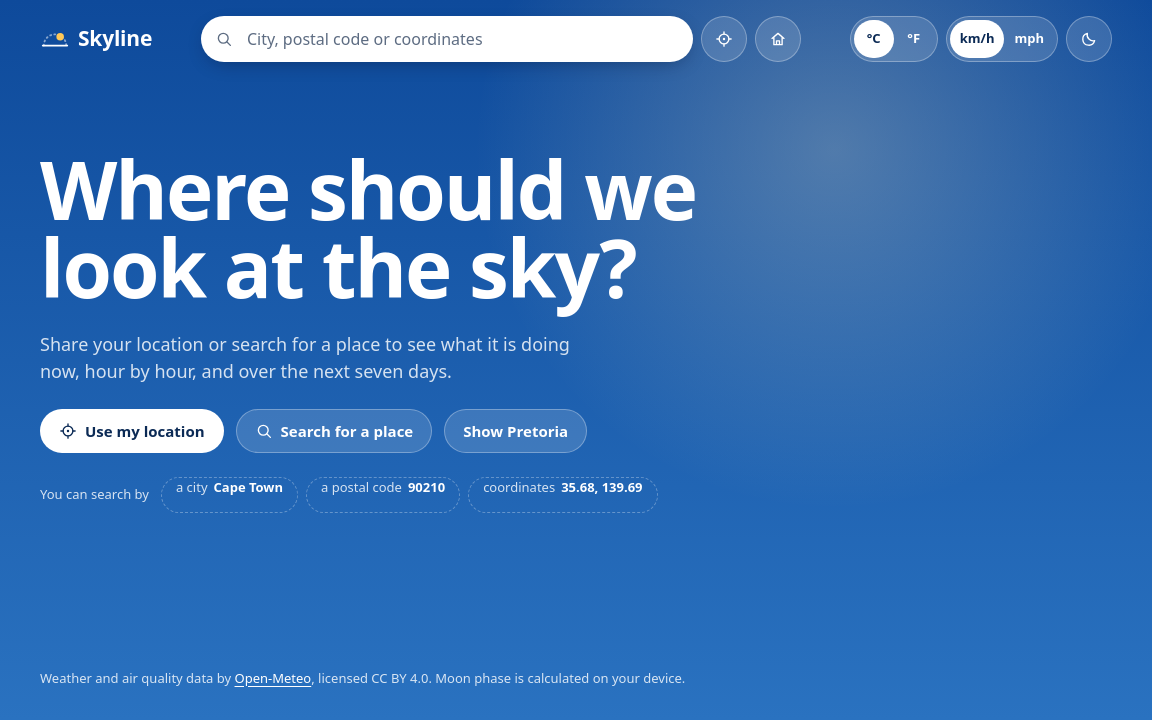
Test case: search › explains an unknown place and keeps the page usable
The width and height of the screenshot is (1152, 720).
Type "zzzxqqqjk" into the dropdown named "Search for a place" at coordinates (470, 39), box [247,16,693,62]
Then press Enter
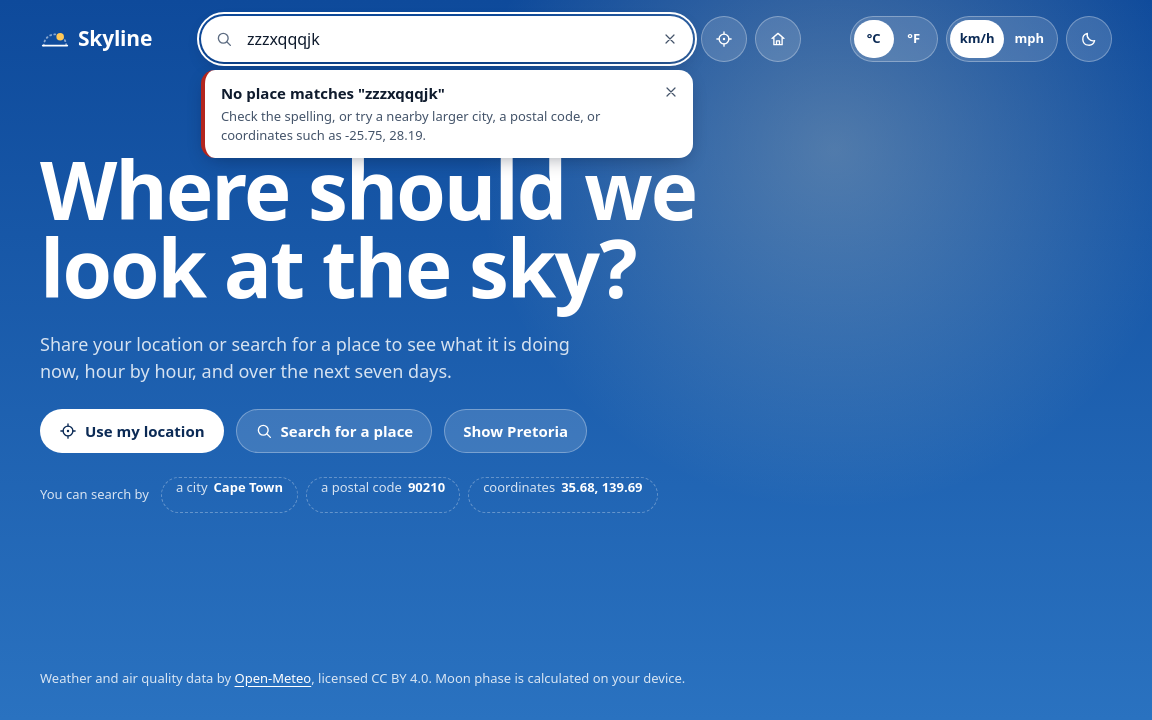
Expected: the heading "Where should we look at the sky?" is shown, [40,150,744,307]
Expected: the text "No place matches \"zzzxqqqjk\"" is shown, [221,82,445,104]
Expected: the text "Check the spelling, or try a nearby larger city" is shown, [221,106,600,144]
